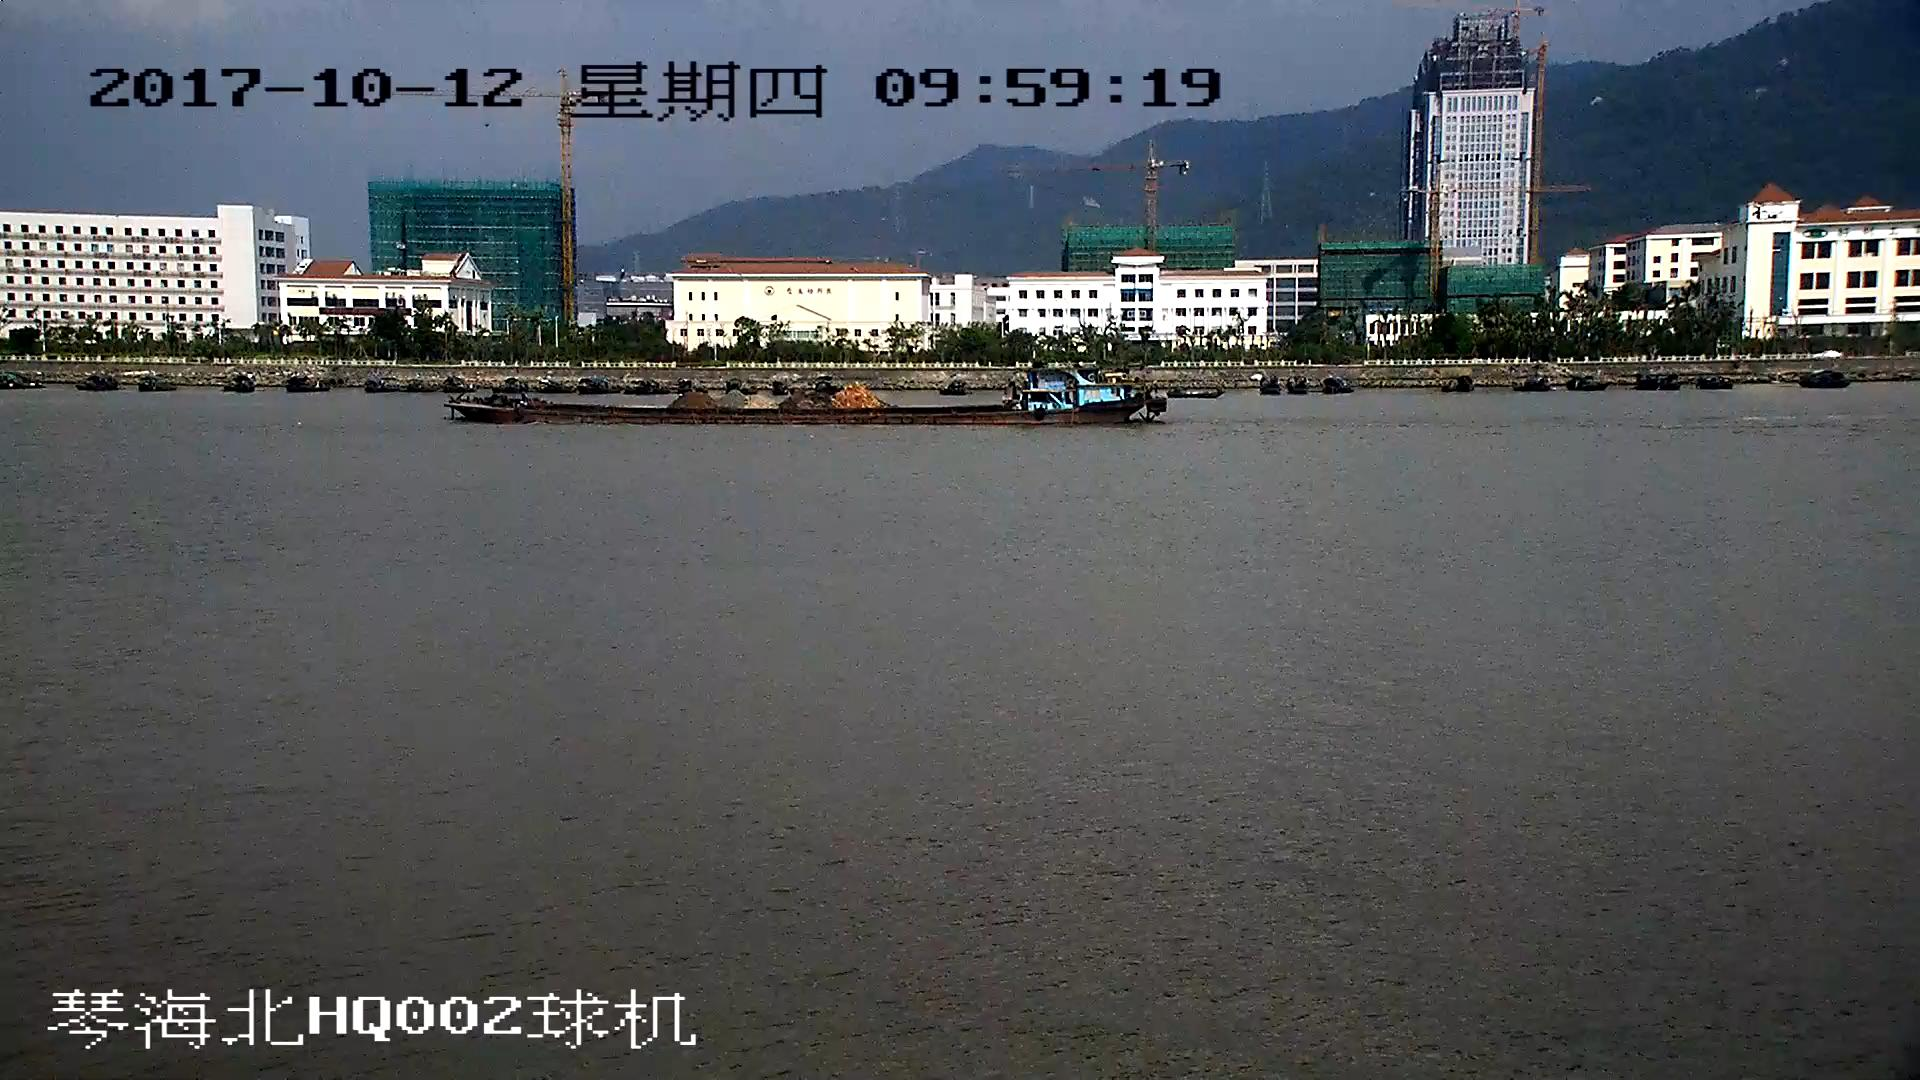ore carrier: (453, 362, 1159, 430)
